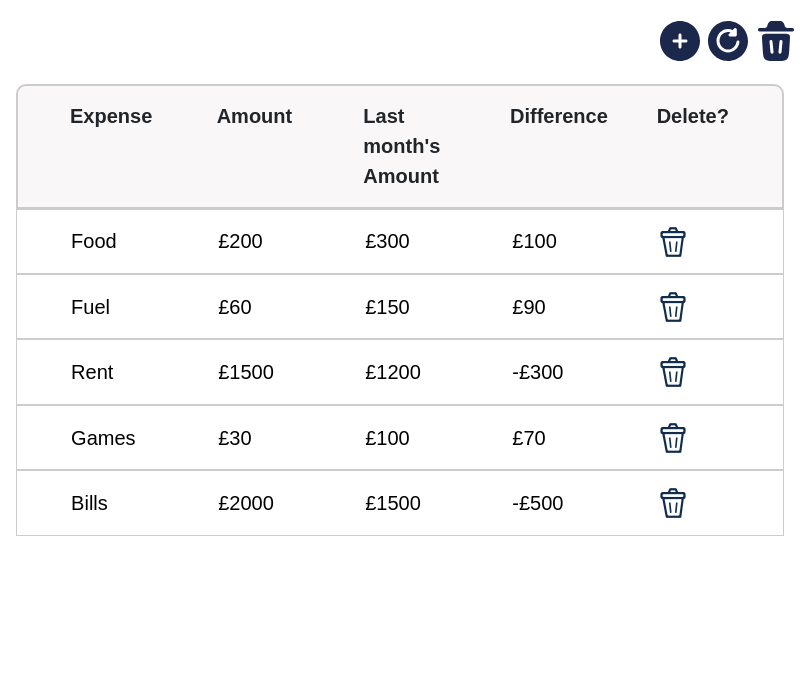
Test: Reset button
Click the icon with test id "add-row": (680, 41) [656,17,704,65]
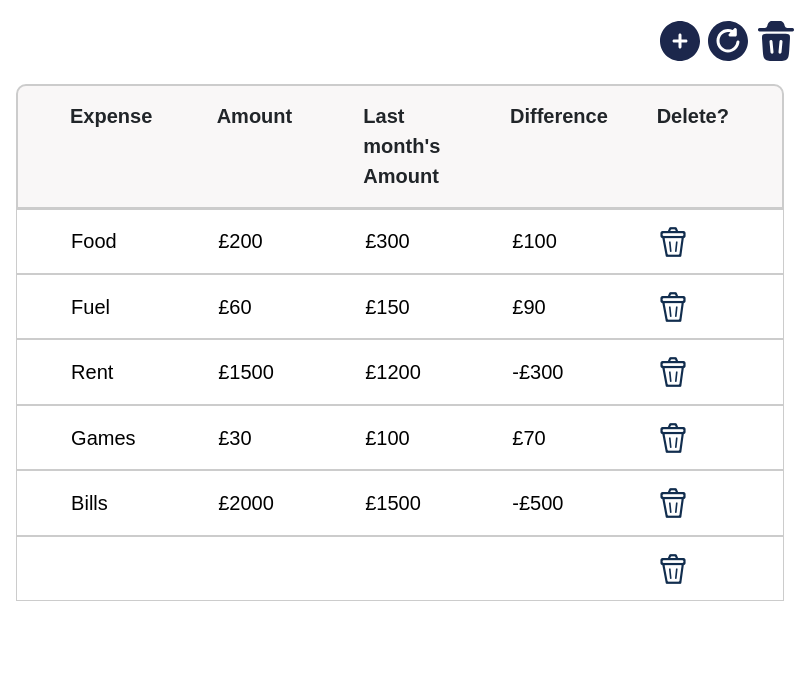
Click the icon with test id "add-row": (680, 41) [656,17,704,65]
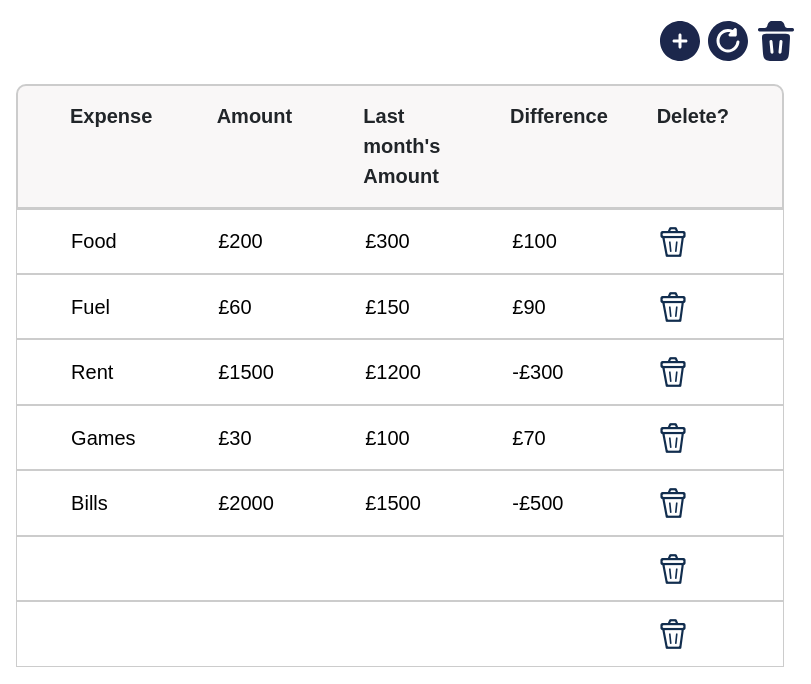
Expected: the number of elements with test id "expense-row" is 7
Click the icon with test id "reset-table": (728, 41) [704,17,752,65]
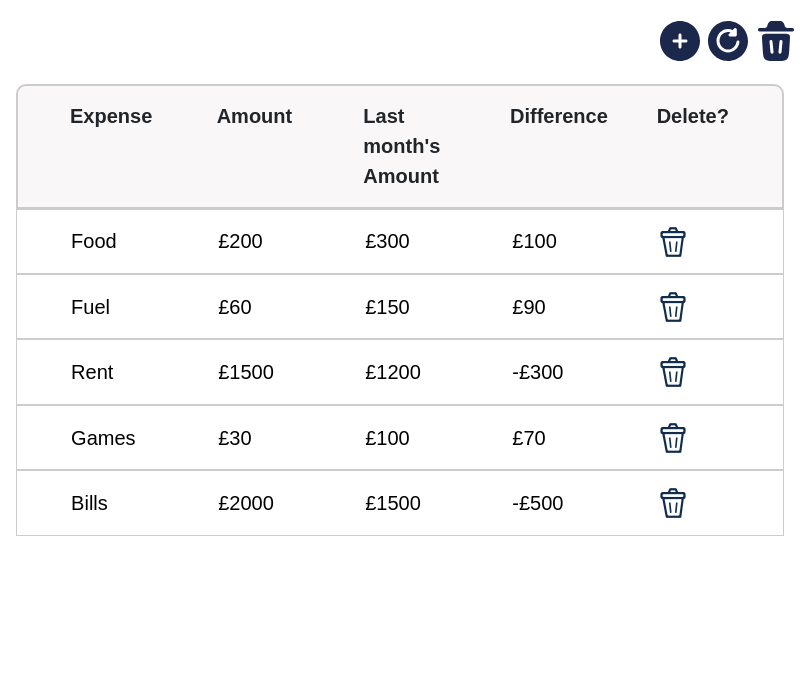
Expected: the number of elements with test id "expense-row" is 5, [16,208,784,274]; [16,274,784,339]; [16,339,784,405]; [16,405,784,470]; [16,470,784,536]
